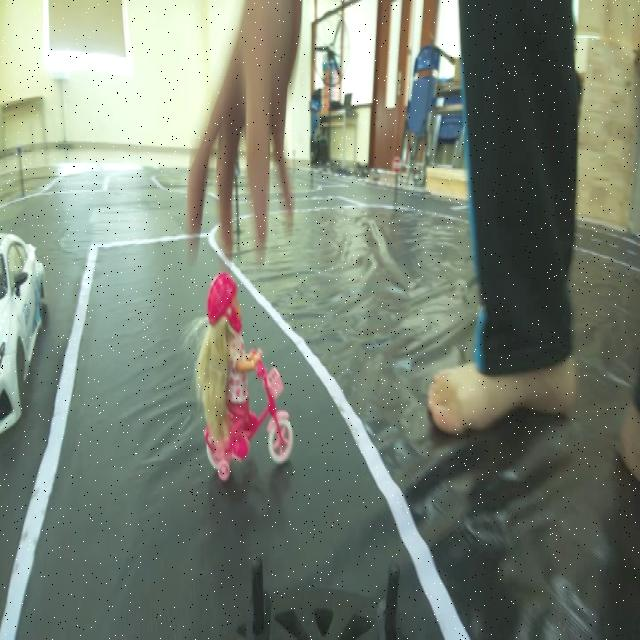pedestrian: (184, 278, 308, 478)
